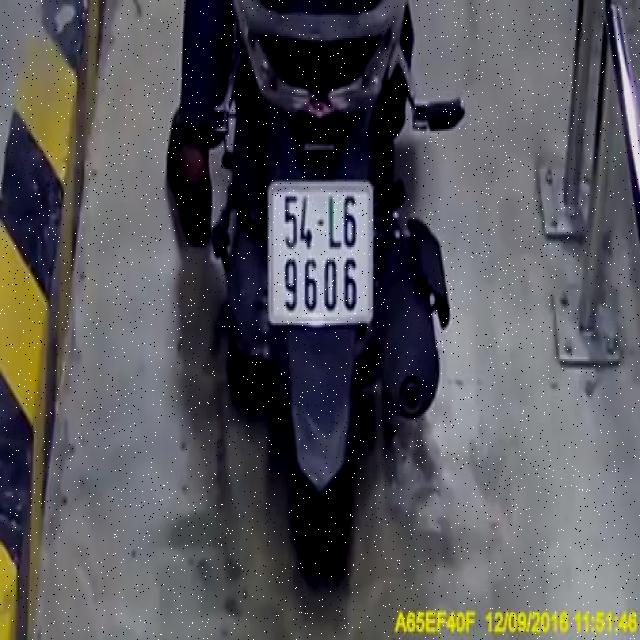0: (323, 258, 338, 312)
4: (299, 194, 313, 249)
5: (284, 194, 298, 250)
6: (303, 253, 318, 313), (343, 194, 359, 248), (343, 255, 358, 312)
9: (282, 256, 300, 313)
L: (327, 193, 342, 249)
